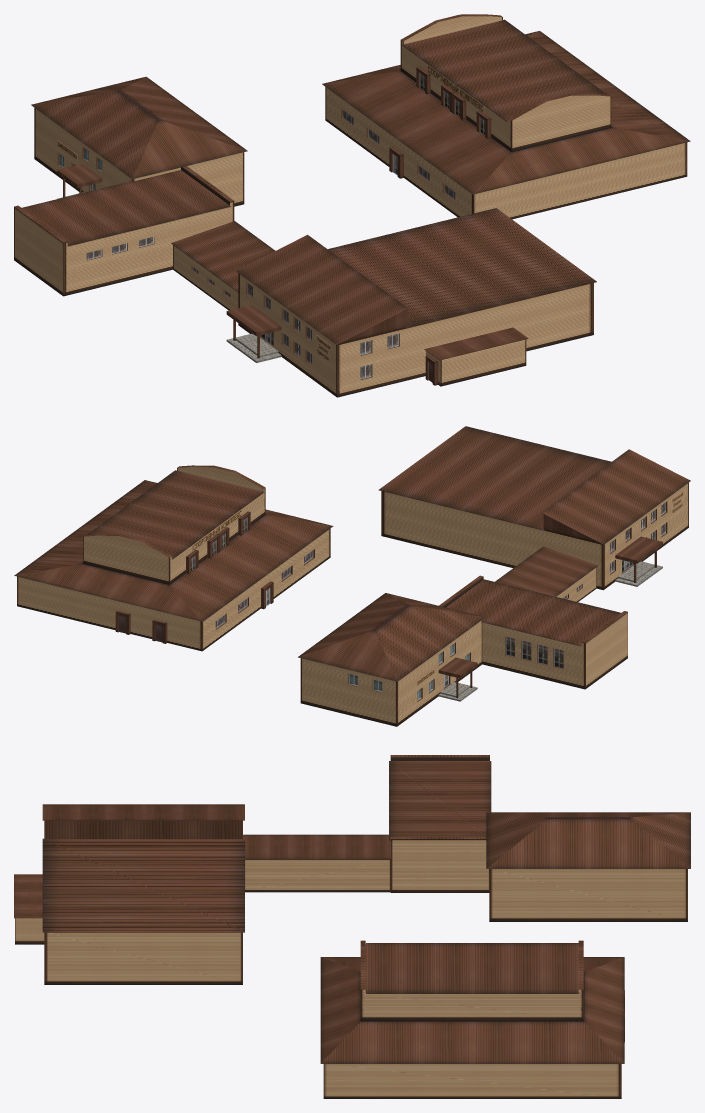
The model's file is r402_ishim_dk.FBX.
3 renders of one model, top to bottom at view 1: azimuth 30°, elevation 25°; view 2: azimuth 150°, elevation 25°; view 3: azimuth 270°, elevation 25°, orthographic. The views are drawn at different scales.
Parts seen in each view (by area): view 1: r402_ishim_dk; view 2: r402_ishim_dk; view 3: r402_ishim_dk.
Part boxes in pixels (x1=…): r402_ishim_dk: x1=14, y1=14, x2=690, y2=397; r402_ishim_dk: x1=14, y1=426, x2=690, y2=726; r402_ishim_dk: x1=14, y1=755, x2=690, y2=1098.
Size of the model in its own units: 6930 by 6818 by 1021.
